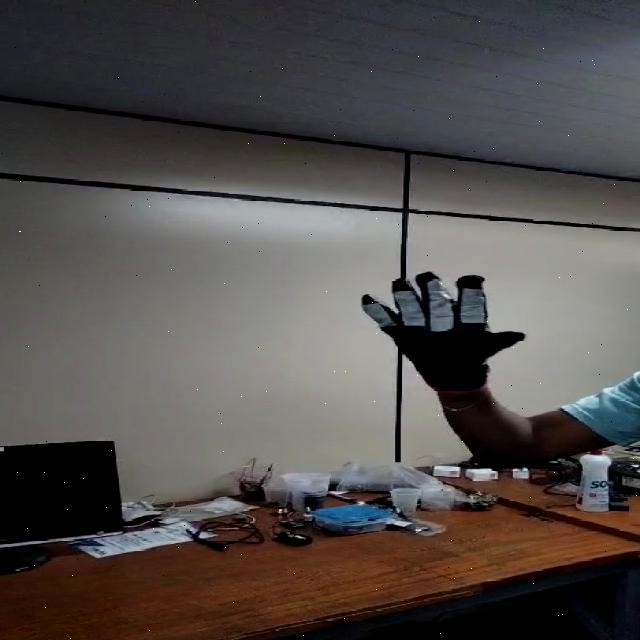Gloves: (354, 269, 521, 388)
